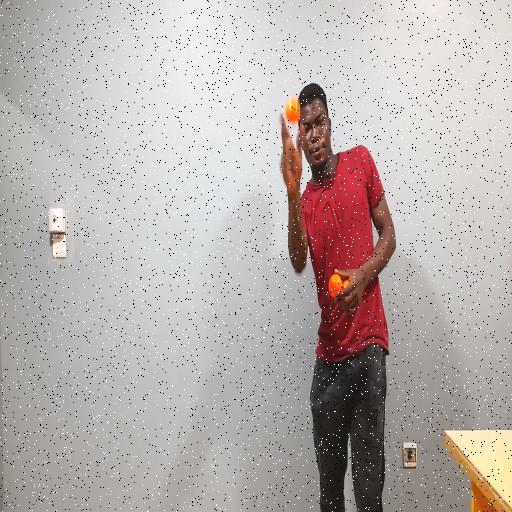plastic-ball: (283, 94, 303, 130)
